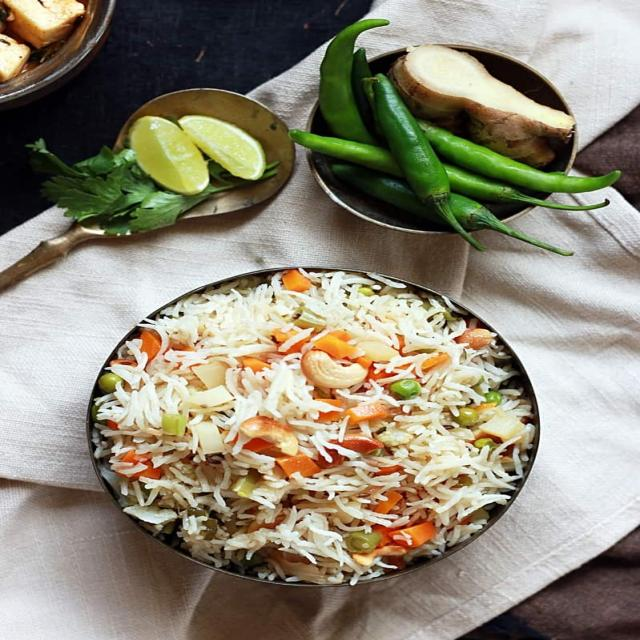veg palav: (72, 257, 574, 611)
